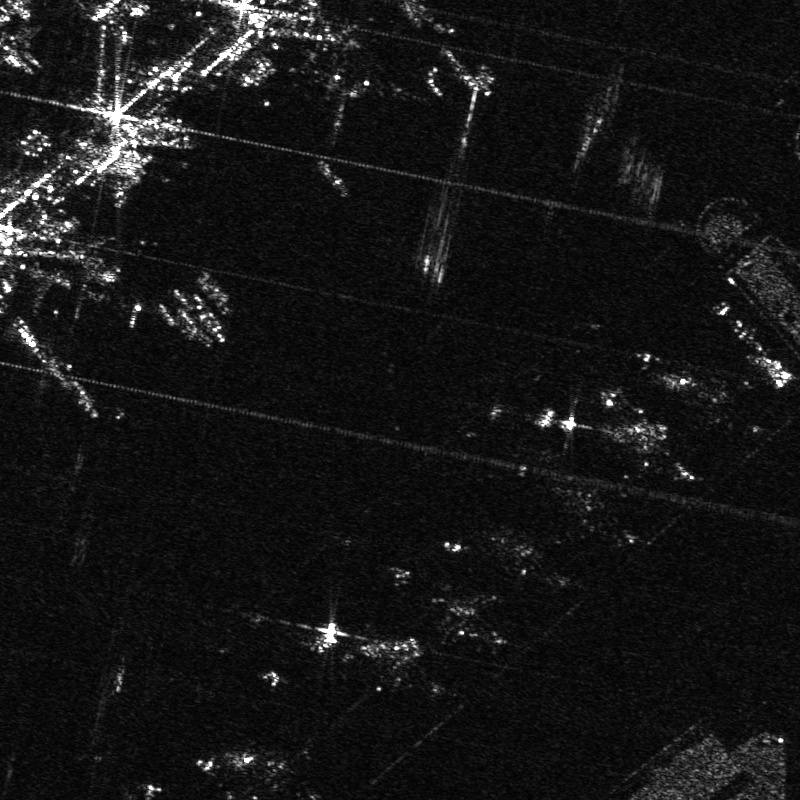A330: (61, 234, 158, 329)
Boeing737: (669, 367, 771, 445), (616, 413, 705, 490), (559, 473, 642, 555), (359, 633, 452, 701), (495, 527, 575, 593), (437, 591, 511, 652)
